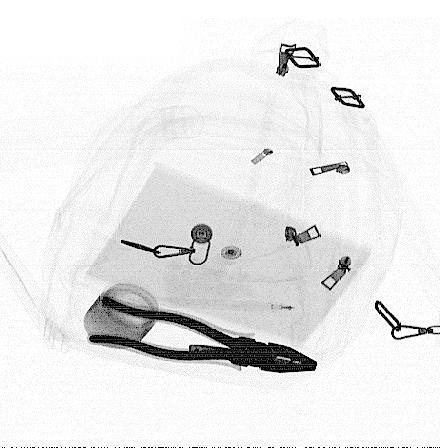Pliers: (85, 293, 319, 374)
